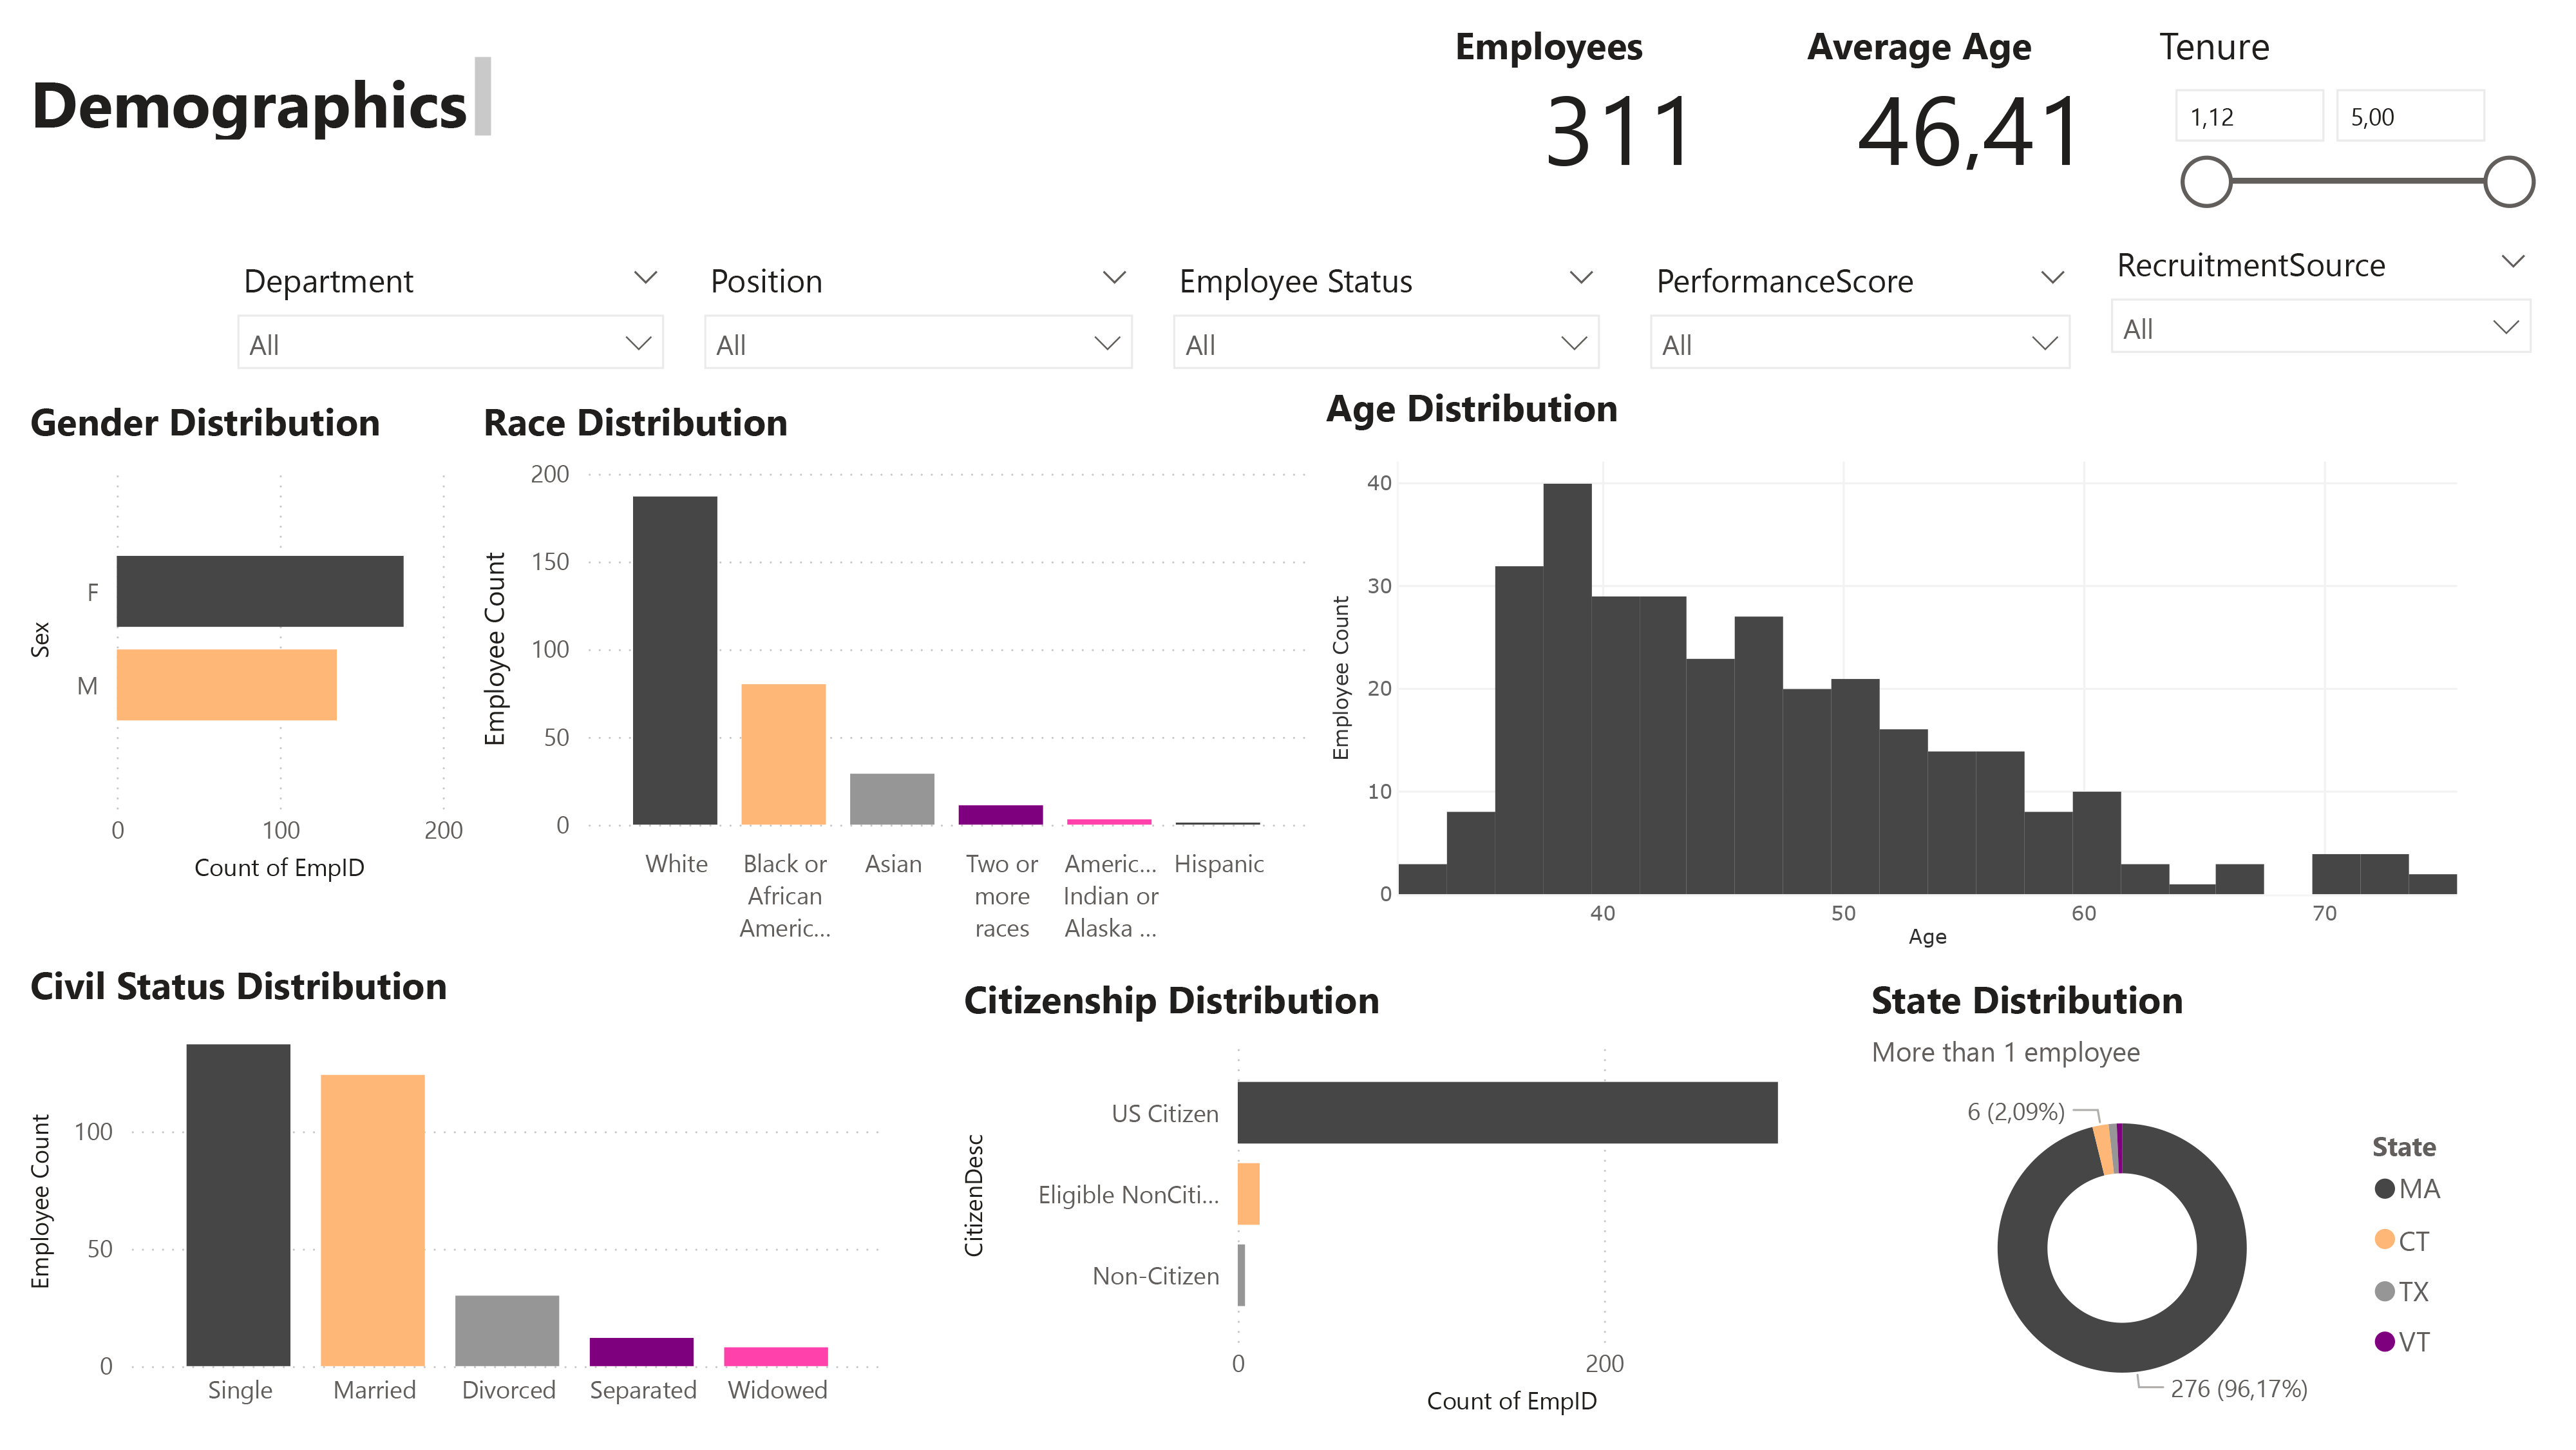

The dashboard page shown, as its layout file describes it:
{"tool":"powerbi","page":{"name":"Demographics","canvas":[1280,720],"ordinal":1},"visuals":[{"type":"clusteredBarChart","title":"Gender Distribution","fields":{"Category":["Demographics.Sex"],"Y":["CountNonNull(Employees.EmpID)"]},"box":[10,196.2,225,246.2],"z":0},{"type":"clusteredColumnChart","title":"Race Distribution","fields":{"Category":["Demographics.RaceDesc"],"Y":["CountNonNull(Employees.EmpID)"]},"box":[235,196.2,418.8,280],"z":1000},{"type":"clusteredColumnChart","title":"Civil Status Distribution","fields":{"Category":["Demographics.MaritalDesc"],"Y":["CountNonNull(Employees.EmpID)"]},"box":[10.4,476.2,434.5,231.7],"z":2000},{"type":"clusteredBarChart","title":"Citizenship Distribution","fields":{"Category":["Demographics.CitizenDesc"],"Y":["CountNonNull(EmploymentStatus.EmpID)"]},"box":[473.9,483.2,428.7,224.8],"z":3000},{"type":"histogram7D0E580F1FEB4DDA901A6D8146EA6387","title":"Age Distribution","fields":{"col_2":["Avg(Demographics.Edad)"],"col_5":["Employees.EmpID"]},"box":[653.8,188.8,582.5,295],"z":4000},{"type":"donutChart","title":"State Distribution","fields":{"Category":["Demographics.State"],"Y":["CountNonNull(Employees.EmpID)"]},"box":[924.7,483.2,311.7,224.8],"z":5000},{"type":"slicer","fields":{"Values":["Jobs.Department"]},"box":[107.5,122.5,232.5,73.8],"z":6000},{"type":"slicer","fields":{"Values":["Jobs.Position"]},"box":[340,122.5,232.5,60],"z":7000},{"type":"slicer","fields":{"Values":["EmploymentStatus.RecruitmentSource"]},"box":[1038.8,115,228.8,73.8],"z":8000},{"type":"card","title":"Average Age","fields":{"Values":["Avg(Demographics.Edad)"]},"box":[892.5,8.8,175,80],"z":9000},{"type":"card","title":"Employees","fields":{"Values":["CountNonNull(Employees.EmpID)"]},"box":[717.5,8.8,175,80],"z":10000},{"type":"slicer","fields":{"Values":["Performance.PerformanceScore"]},"box":[810,122.5,228.8,60],"z":11000},{"type":"slicer","fields":{"Values":["EmploymentStatus.Employee Status"]},"box":[572.5,122.5,232.5,60],"z":12000},{"type":"slicer","title":"Tenure","fields":{"Values":["Performance.EngagementSurvey"]},"box":[1067.5,8.8,200,100],"z":13000},{"type":"textbox","box":[10,22.5,238.8,51.2],"z":14000}]}

Visuals, with their boxes in screenshot pixels (x1, y1, x2, y2), scaled from the page's 1280x720 canvas onto the 2576x1450 screenshot:
"Gender Distribution" clusteredBarChart: [left=20, top=395, right=473, bottom=891]
"Race Distribution" clusteredColumnChart: [left=473, top=395, right=1316, bottom=959]
"Civil Status Distribution" clusteredColumnChart: [left=21, top=959, right=895, bottom=1426]
"Citizenship Distribution" clusteredBarChart: [left=954, top=973, right=1817, bottom=1426]
"Age Distribution" histogram7D0E580F1FEB4DDA901A6D8146EA6387: [left=1316, top=380, right=2488, bottom=975]
"State Distribution" donutChart: [left=1861, top=973, right=2488, bottom=1426]
slicer - Jobs.Department: [left=216, top=247, right=684, bottom=396]
slicer - Jobs.Position: [left=684, top=247, right=1152, bottom=368]
slicer - EmploymentStatus.RecruitmentSource: [left=2090, top=232, right=2551, bottom=380]
"Average Age" card: [left=1796, top=18, right=2148, bottom=179]
"Employees" card: [left=1444, top=18, right=1796, bottom=179]
slicer - Performance.PerformanceScore: [left=1630, top=247, right=2090, bottom=368]
slicer - EmploymentStatus.Employee Status: [left=1152, top=247, right=1620, bottom=368]
"Tenure" slicer: [left=2148, top=18, right=2551, bottom=219]
textbox: [left=20, top=45, right=501, bottom=148]
